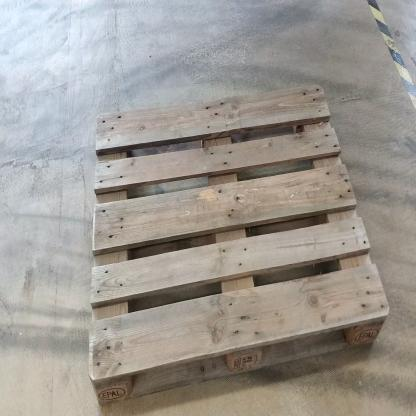BoxFace: (84, 75, 395, 412)
